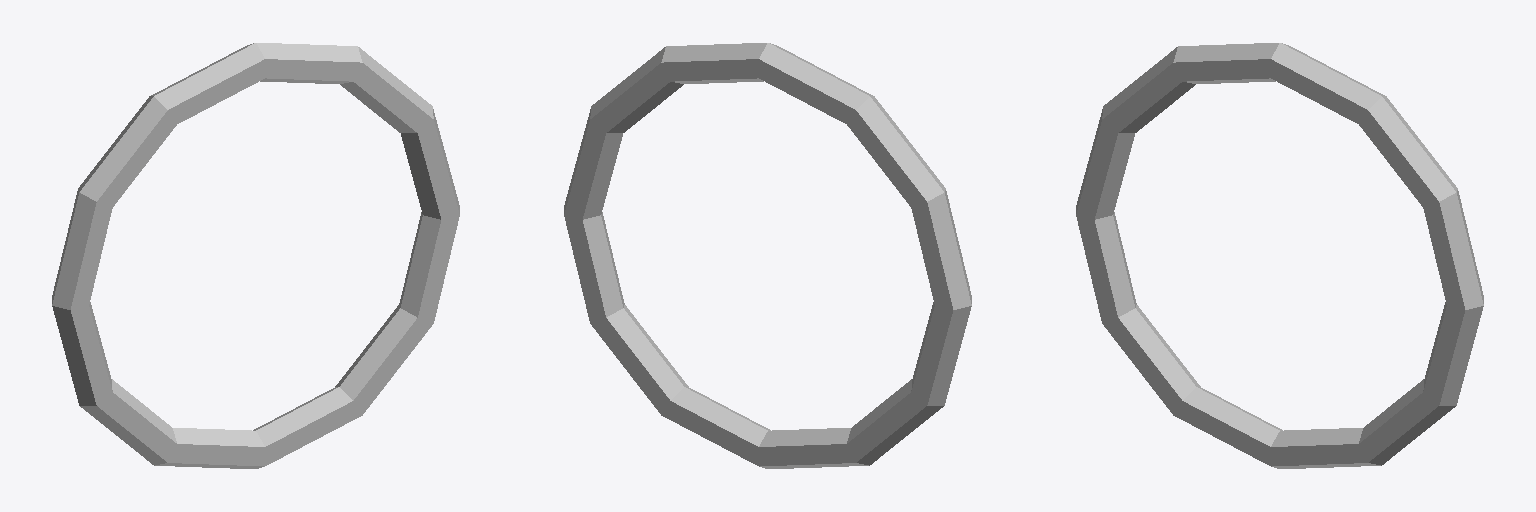
The model's file is Ring.obj.
3 renders of one model, left to right at view 1: azimuth 30°, elevation 25°; view 2: azimuth 150°, elevation 25°; view 3: azimuth 330°, elevation 25°, orthographic.
Visible parts, largest first — view 1: Torus001; view 2: Torus001; view 3: Torus001.
Boxes of the visible parts, box(x1,y1,x2,y2) form: Torus001: box(52, 43, 459, 468); Torus001: box(564, 43, 971, 468); Torus001: box(1076, 43, 1483, 468).
Size of the model in its own units: 22 by 22 by 1.73.